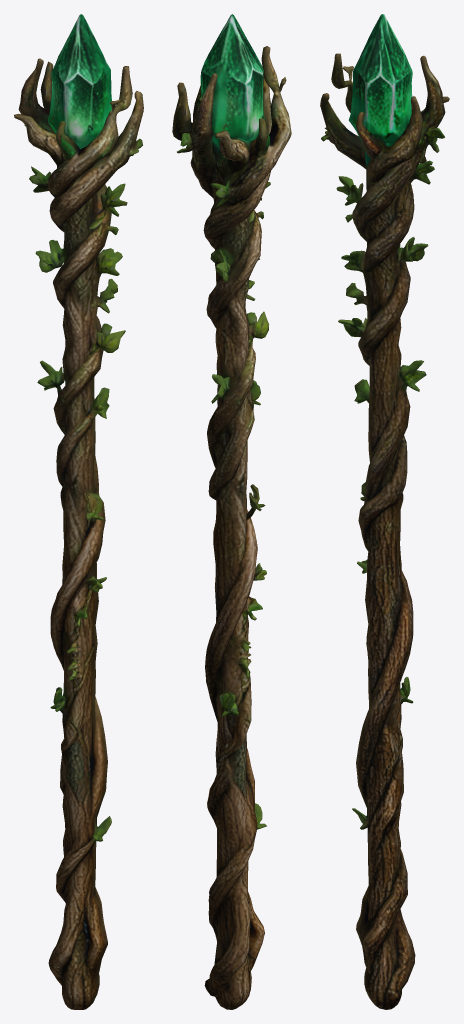
Rendered from mossgem_staff.glb.
3 views of the same model, side by side, from view 1: azimuth 90°, elevation 25°; view 2: azimuth 150°, elevation 25°; view 3: azimuth 270°, elevation 25° (orthographic).
Parts seen in each view (by area): view 1: mossgem_staff; view 2: mossgem_staff; view 3: mossgem_staff.
Part boxes in pixels (left/top/right/bottom): mossgem_staff: left=14, top=14, right=143, bottom=1009; mossgem_staff: left=172, top=14, right=291, bottom=1009; mossgem_staff: left=320, top=14, right=449, bottom=1009.
Size of the model in its own units: 0.186 by 1.82 by 0.2158.
Materials: 1 (1 with a texture image).
